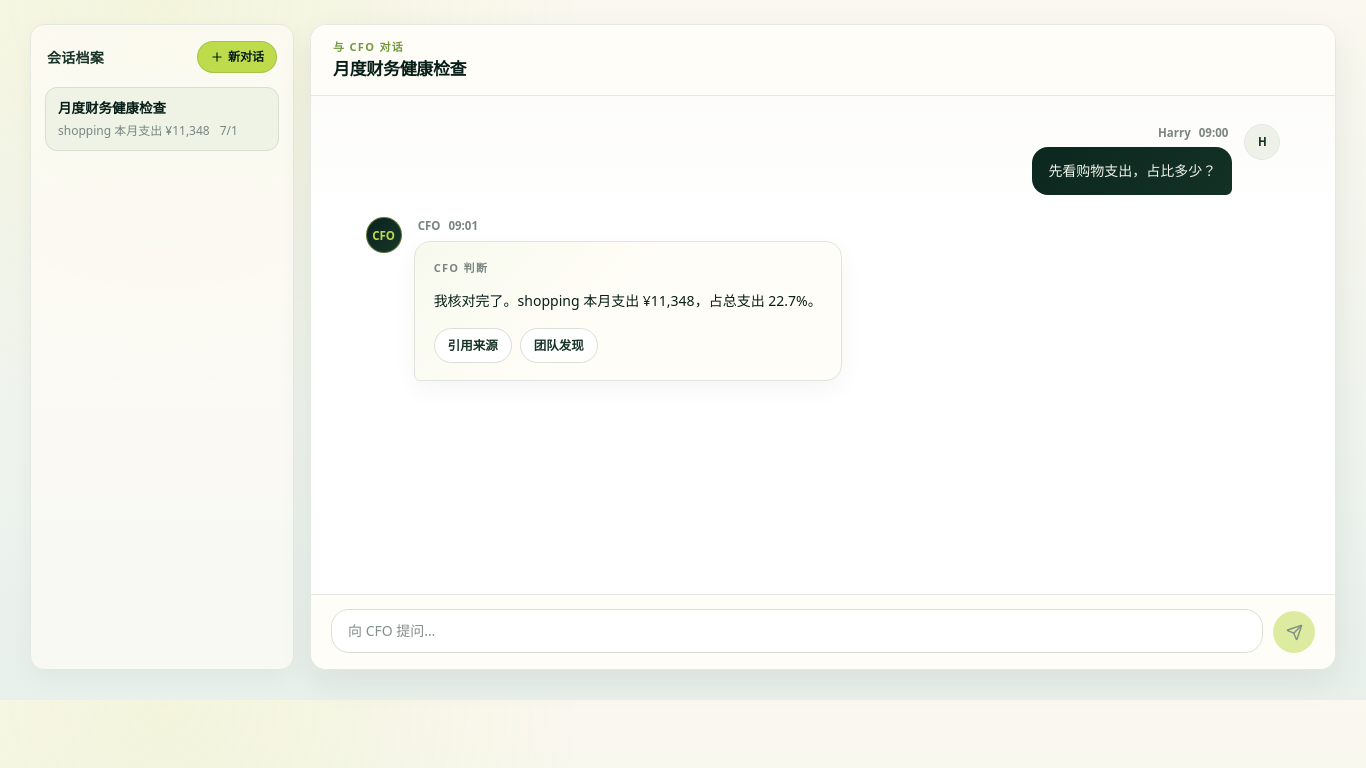
it: MyOfficePage › never renders developer observability fields
What coordinates should you click on to do the following:
click the button "引用来源"
I would click on:
 (473, 345)
Its box is [434, 328, 512, 363].
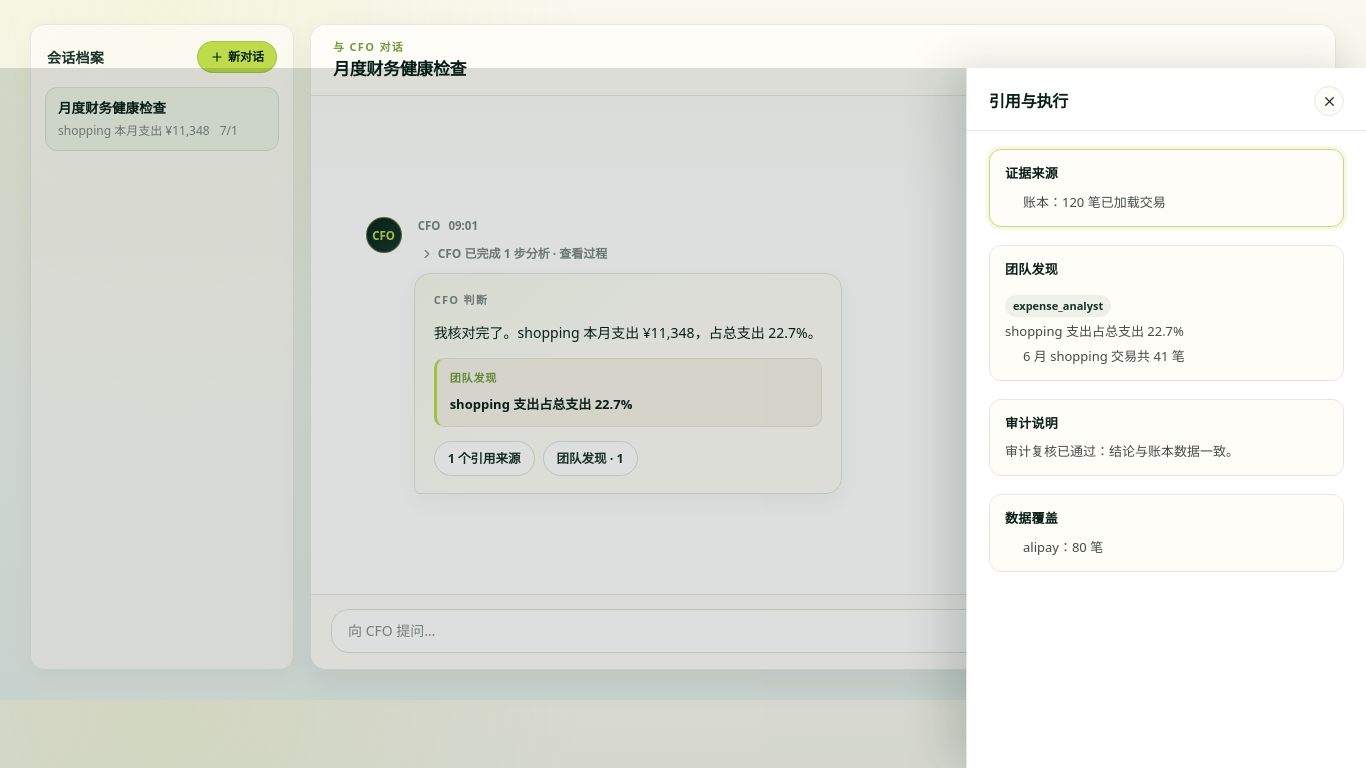
Expected: the list item "账本：120 笔已加载交易" is shown, [1023, 193, 1166, 211]
